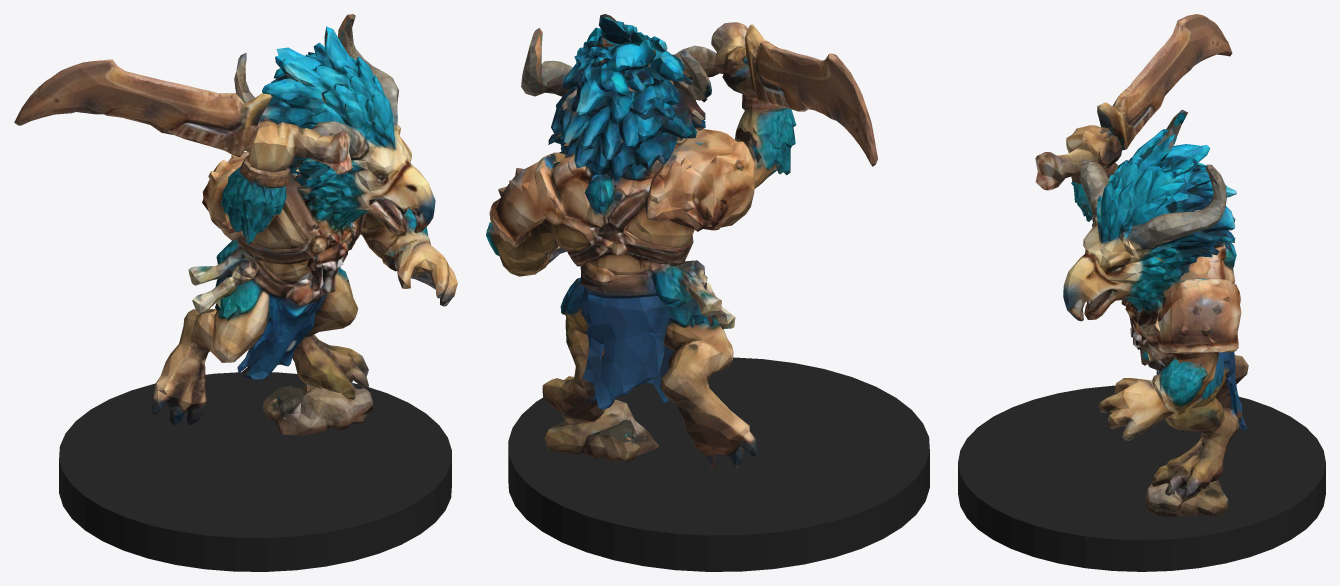
The model's file is wc-tzaangor-champion-greatblade.glb.
The picture shows the model from 3 angles, left to right: view 1: azimuth 30°, elevation 25°; view 2: azimuth 150°, elevation 25°; view 3: azimuth 270°, elevation 25°; orthographic projection. The views are drawn at different scales.
Parts seen in each view (by area): view 1: figure, base; view 2: figure, base; view 3: figure, base.
Part boxes in pixels (left/top/right/bottom): figure: left=14, top=14, right=457, bottom=435; base: left=59, top=372, right=451, bottom=571; figure: left=486, top=14, right=877, bottom=467; base: left=508, top=357, right=929, bottom=571; figure: left=1035, top=14, right=1248, bottom=516; base: left=958, top=385, right=1325, bottom=571.
Size of the model in its own units: 1.43 by 1.57 by 1.26.
Materials: 2 (1 with a texture image).
